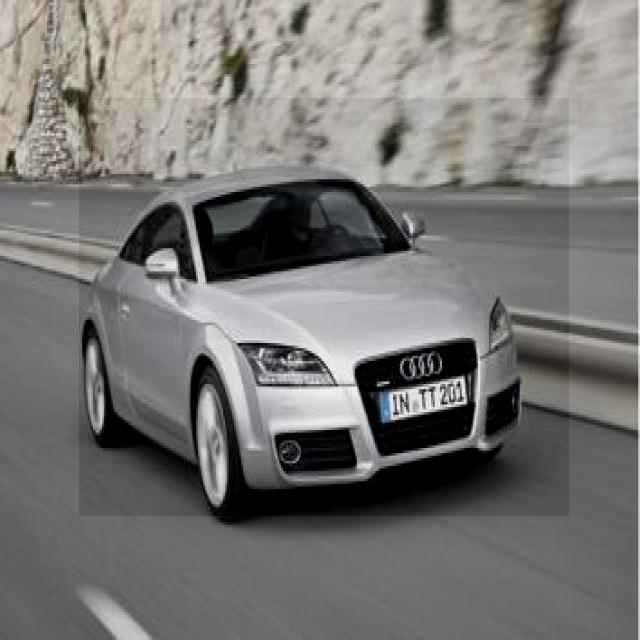Car: (80, 98, 570, 516)
